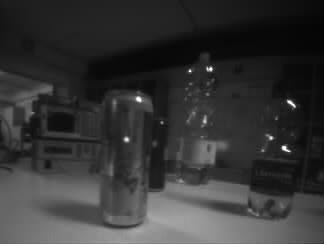Bottle: (247, 80, 302, 222), (176, 52, 216, 184)
Tin can: (96, 89, 159, 227)
